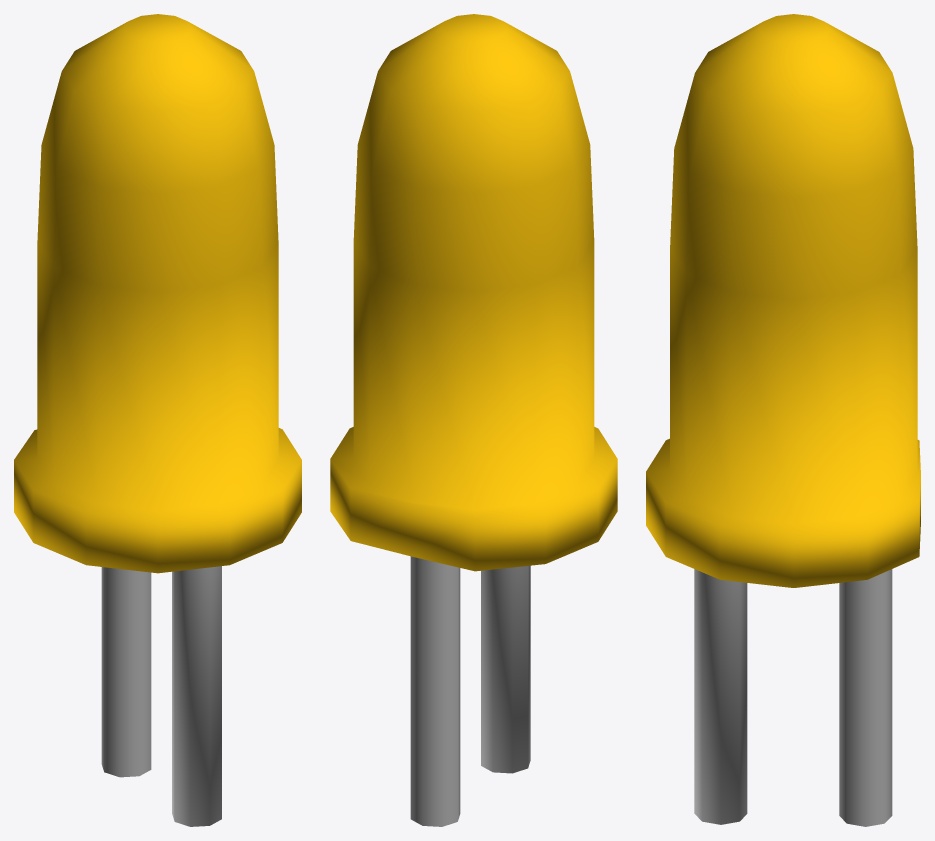
Rendered from LEDYellow.fbx.
The picture shows the model from 3 angles, left to right: view 1: azimuth 30°, elevation 25°; view 2: azimuth 150°, elevation 25°; view 3: azimuth 270°, elevation 25°; orthographic projection. The views are drawn at different scales.
Parts seen in each view (by area): view 1: LEDYellow; view 2: LEDYellow; view 3: LEDYellow.
Part boxes in pixels (left/top/right/bottom): LEDYellow: left=14, top=14, right=301, bottom=826; LEDYellow: left=330, top=14, right=617, bottom=826; LEDYellow: left=646, top=14, right=920, bottom=826.
Size of the model in its own units: 55.66 by 163 by 51.77.
